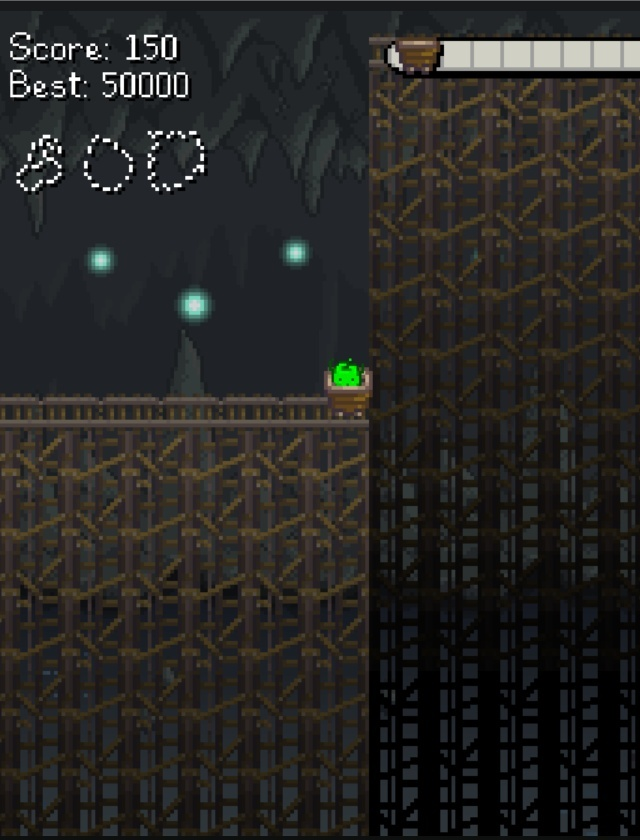minecart: (325, 358, 371, 416)
tracks: (0, 390, 314, 434)
